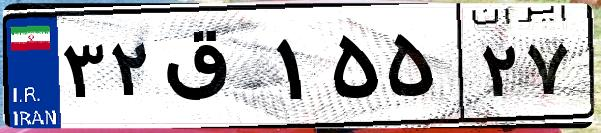1: (270, 28, 330, 110)
2: (475, 38, 525, 113), (110, 28, 158, 98)
3: (57, 26, 110, 100)
5: (385, 28, 445, 110), (330, 28, 385, 110)
7: (525, 38, 570, 115)
ق: (158, 20, 270, 120)
